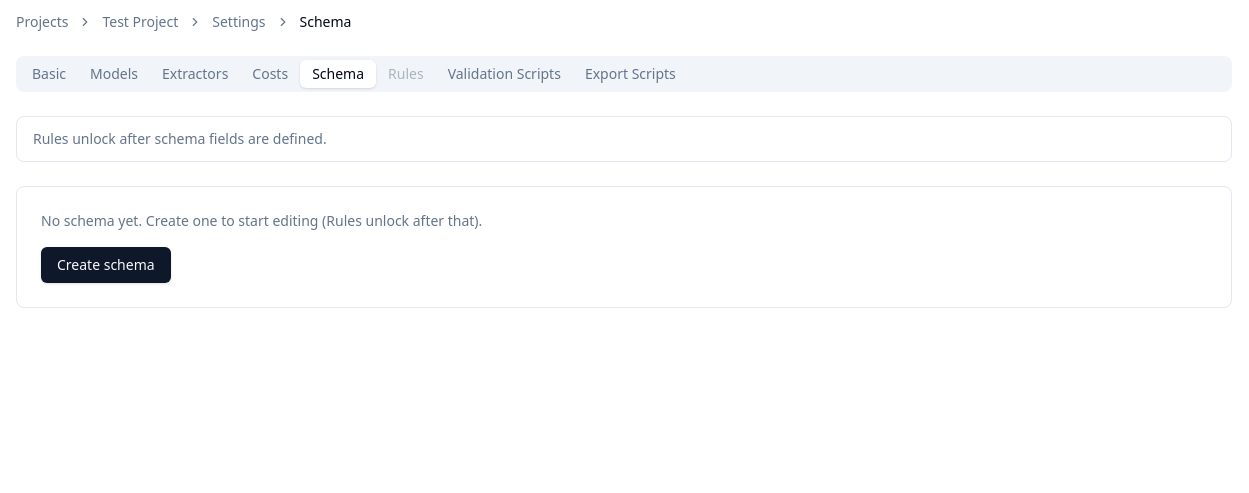
ProjectSettingsSchemaPage › creates an empty schema when none exists
What coordinates should you click on to do the following:
click the button "Create schema"
I would click on:
 (106, 265)
Its box is 41,247 -> 171,283.
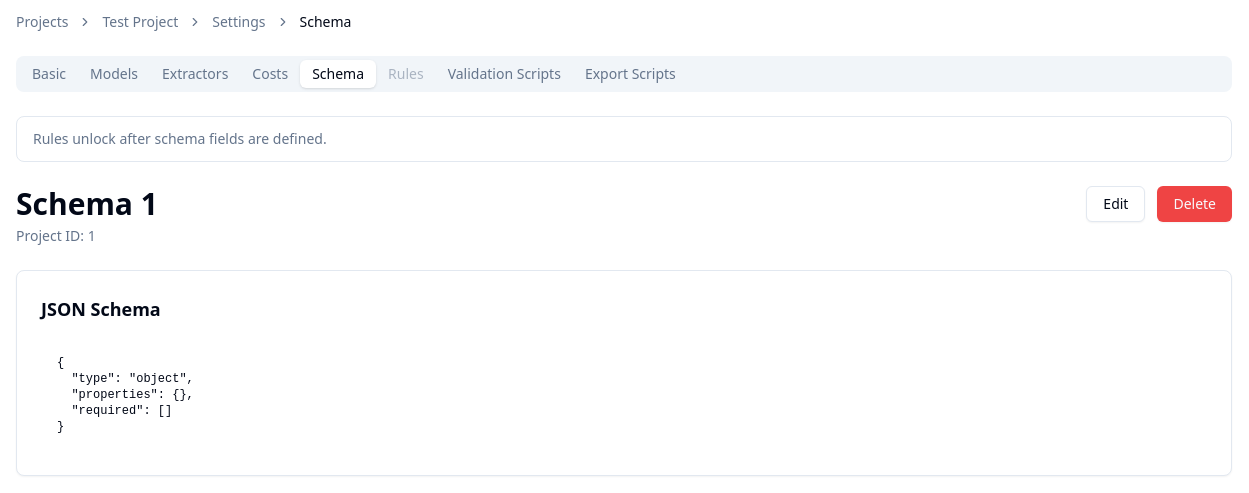
Now the heading "Schema 1" is shown, box 16,186 -> 158,222
